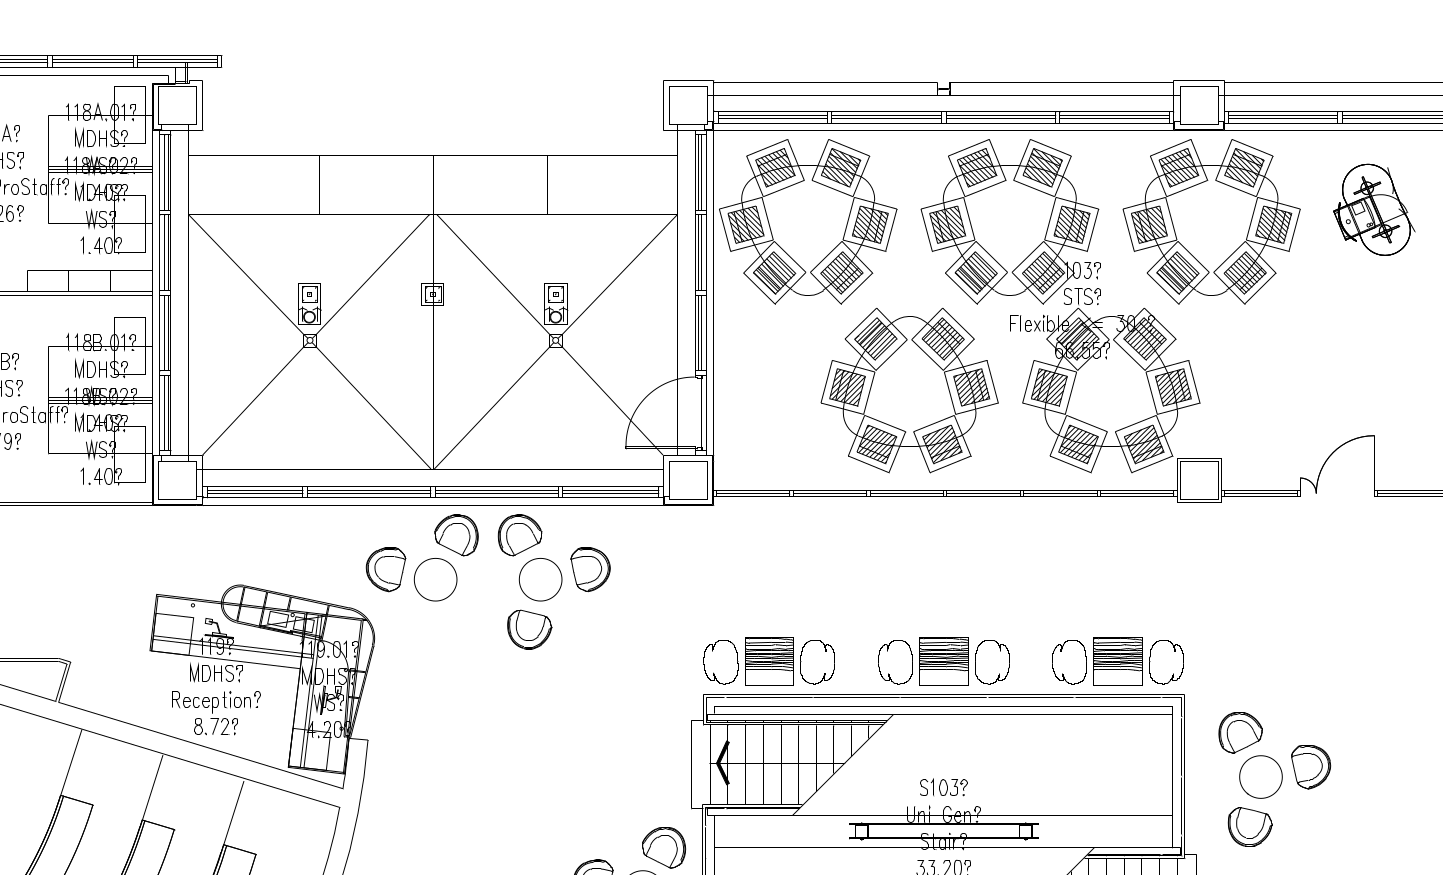door: (617, 373, 703, 451), (1297, 422, 1380, 500)
